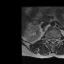CCS_normal: (51, 35, 54, 45)
LFS_normal: (56, 36, 58, 43)
LLS_normal: (54, 35, 56, 43)
RFS_normal: (47, 36, 49, 42)
RLS_normal: (49, 36, 51, 44)
